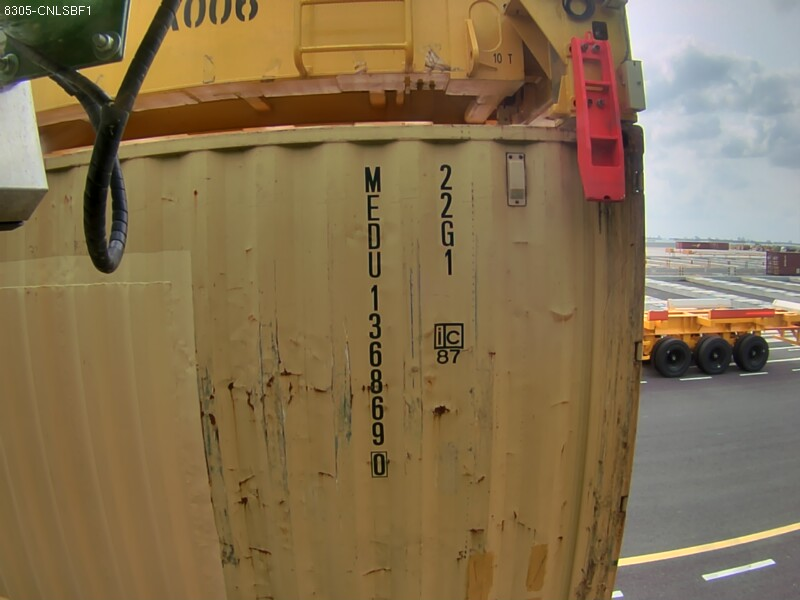container_no_door: (141, 122, 560, 547)
